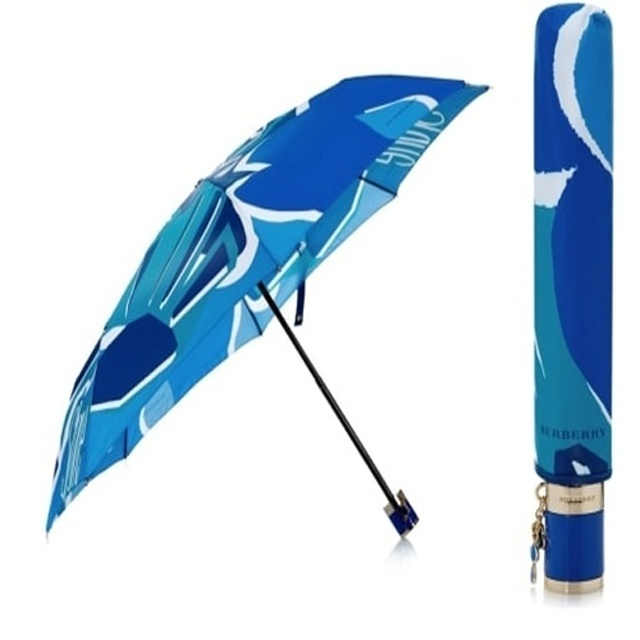umbrella: (41, 67, 493, 541), (532, 1, 615, 599)
